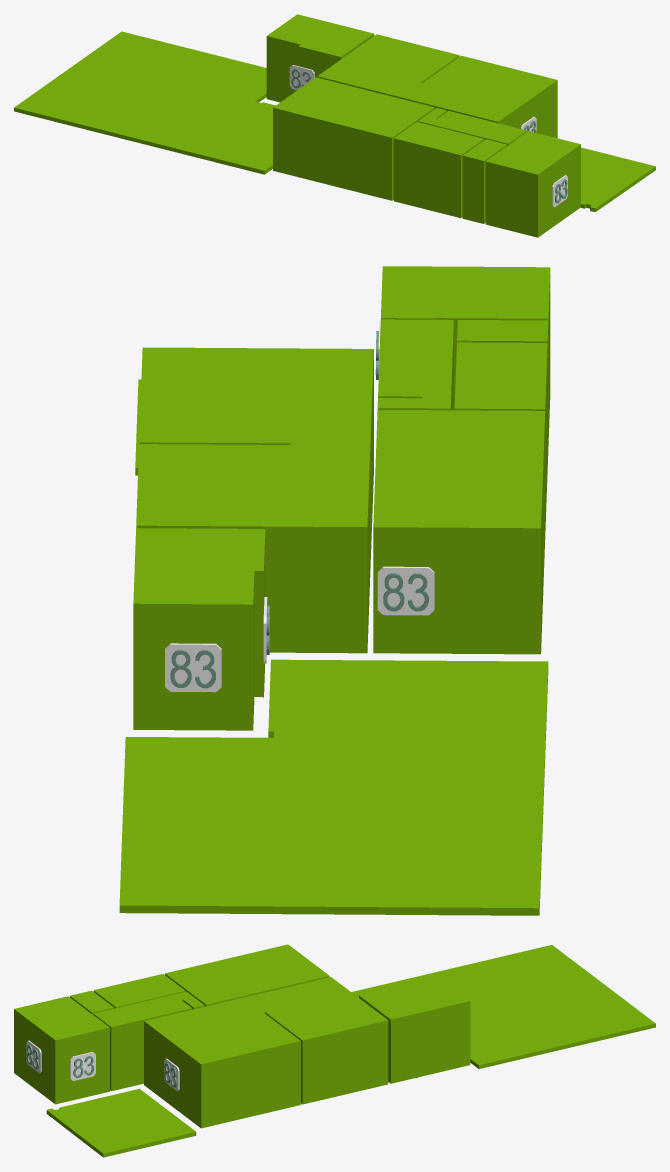
The picture shows the model from 3 angles, top to bottom: view 1: azimuth 30°, elevation 25°; view 2: azimuth 150°, elevation 25°; view 3: azimuth 270°, elevation 25°; orthographic projection. The views are drawn at different scales.
Parts seen in each view (by area): view 1: g_9, g_1, g_2, g_4, g_6, g_3, g_0, g_8, g_7, g_5, g_27; view 2: g_9, g_1, g_3, g_0, g_4, g_2, g_5, g_6, g_7, g_24, g_12; view 3: g_9, g_4, g_3, g_0, g_2, g_8, g_1, g_5, g_6, g_7, g_18.
Boxes of the visible parts, x1,y1,x2,y2 form: g_9: (14, 31, 275, 174); g_1: (273, 77, 434, 200); g_2: (485, 131, 580, 237); g_4: (402, 55, 557, 138); g_6: (393, 122, 484, 218); g_3: (317, 34, 459, 98); g_0: (266, 14, 374, 102); g_8: (581, 147, 655, 211); g_7: (462, 139, 507, 223); g_5: (418, 108, 526, 145); g_27: (289, 65, 314, 90); g_9: (119, 659, 548, 915); g_1: (373, 410, 545, 654); g_3: (136, 443, 370, 653); g_0: (133, 528, 265, 730); g_4: (139, 347, 373, 568); g_2: (381, 266, 550, 436); g_5: (377, 319, 453, 410); g_6: (454, 342, 547, 530); g_7: (457, 320, 548, 464); g_24: (377, 566, 434, 615); g_12: (165, 643, 221, 692); g_9: (351, 945, 655, 1068); g_4: (144, 997, 300, 1128); g_3: (244, 977, 388, 1104); g_0: (359, 978, 470, 1083); g_2: (14, 996, 109, 1104); g_8: (46, 1088, 196, 1157); g_1: (165, 944, 329, 1006); g_5: (93, 991, 204, 1091); g_6: (93, 974, 185, 1008); g_7: (70, 990, 114, 1014); g_18: (70, 1052, 95, 1080).
Size of the model in its own units: 17.37 by 2.65 by 22.56.
